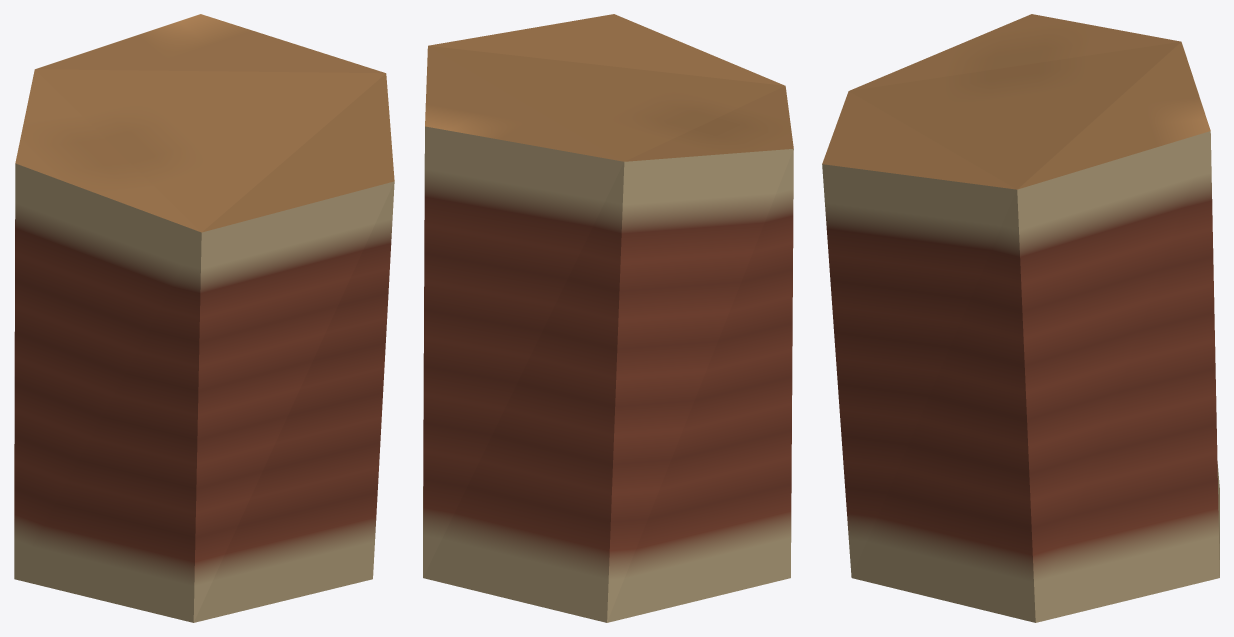
The model's file is SM_Spool.fbx.
3 renders of one model, left to right at view 1: azimuth 30°, elevation 25°; view 2: azimuth 150°, elevation 25°; view 3: azimuth 270°, elevation 25°, orthographic. The views are drawn at different scales.
Visible parts, largest first — view 1: Spool_Visual; view 2: Spool_Visual; view 3: Spool_Visual.
Boxes of the visible parts, x1,y1,x2,y2 form: Spool_Visual: (14,14,394,622); Spool_Visual: (423,14,793,622); Spool_Visual: (822,14,1219,622).
Size of the model in its own units: 0.0649 by 0.0745 by 0.0599.
